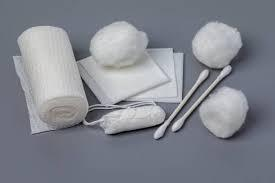cotton: (14, 26, 87, 132), (15, 26, 87, 128), (17, 26, 87, 128), (13, 56, 71, 133), (78, 54, 168, 103), (172, 65, 231, 131), (13, 56, 58, 133), (14, 56, 57, 133), (126, 48, 183, 102), (128, 48, 182, 101), (90, 21, 147, 67), (154, 53, 184, 139), (199, 87, 248, 137), (130, 48, 176, 100), (136, 53, 183, 102), (84, 105, 165, 133), (192, 22, 241, 67), (101, 105, 164, 133), (100, 106, 164, 133), (152, 53, 183, 102), (113, 57, 167, 85), (159, 52, 184, 102)
